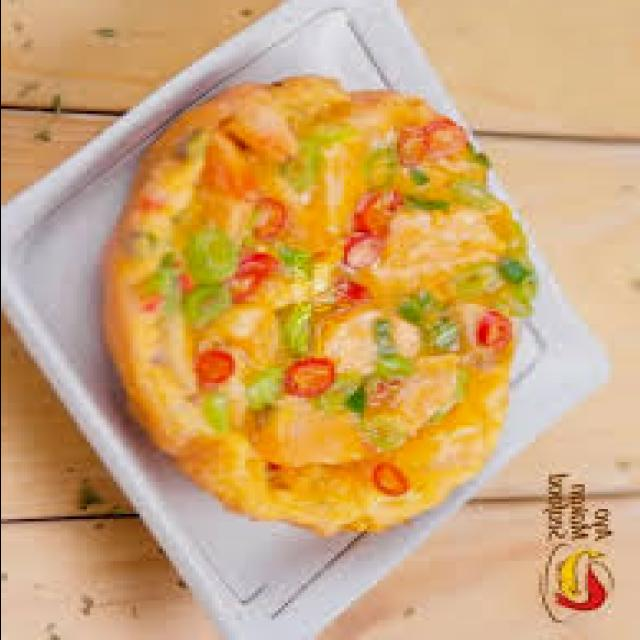telur dadar: (96, 74, 538, 539)
